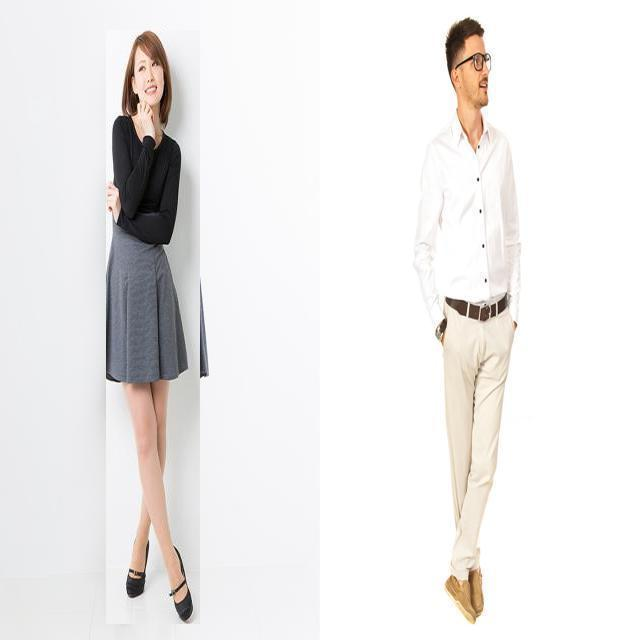direk: (416, 16, 524, 626), (106, 30, 200, 624)
